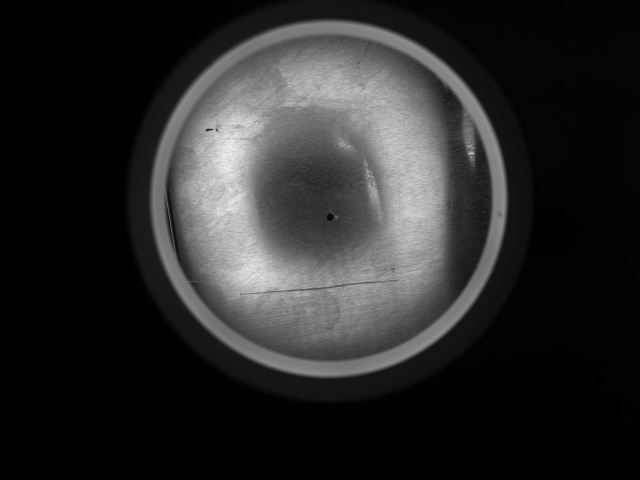ca_shang: (236, 280, 402, 294)
zhen_kong: (322, 209, 340, 225)
